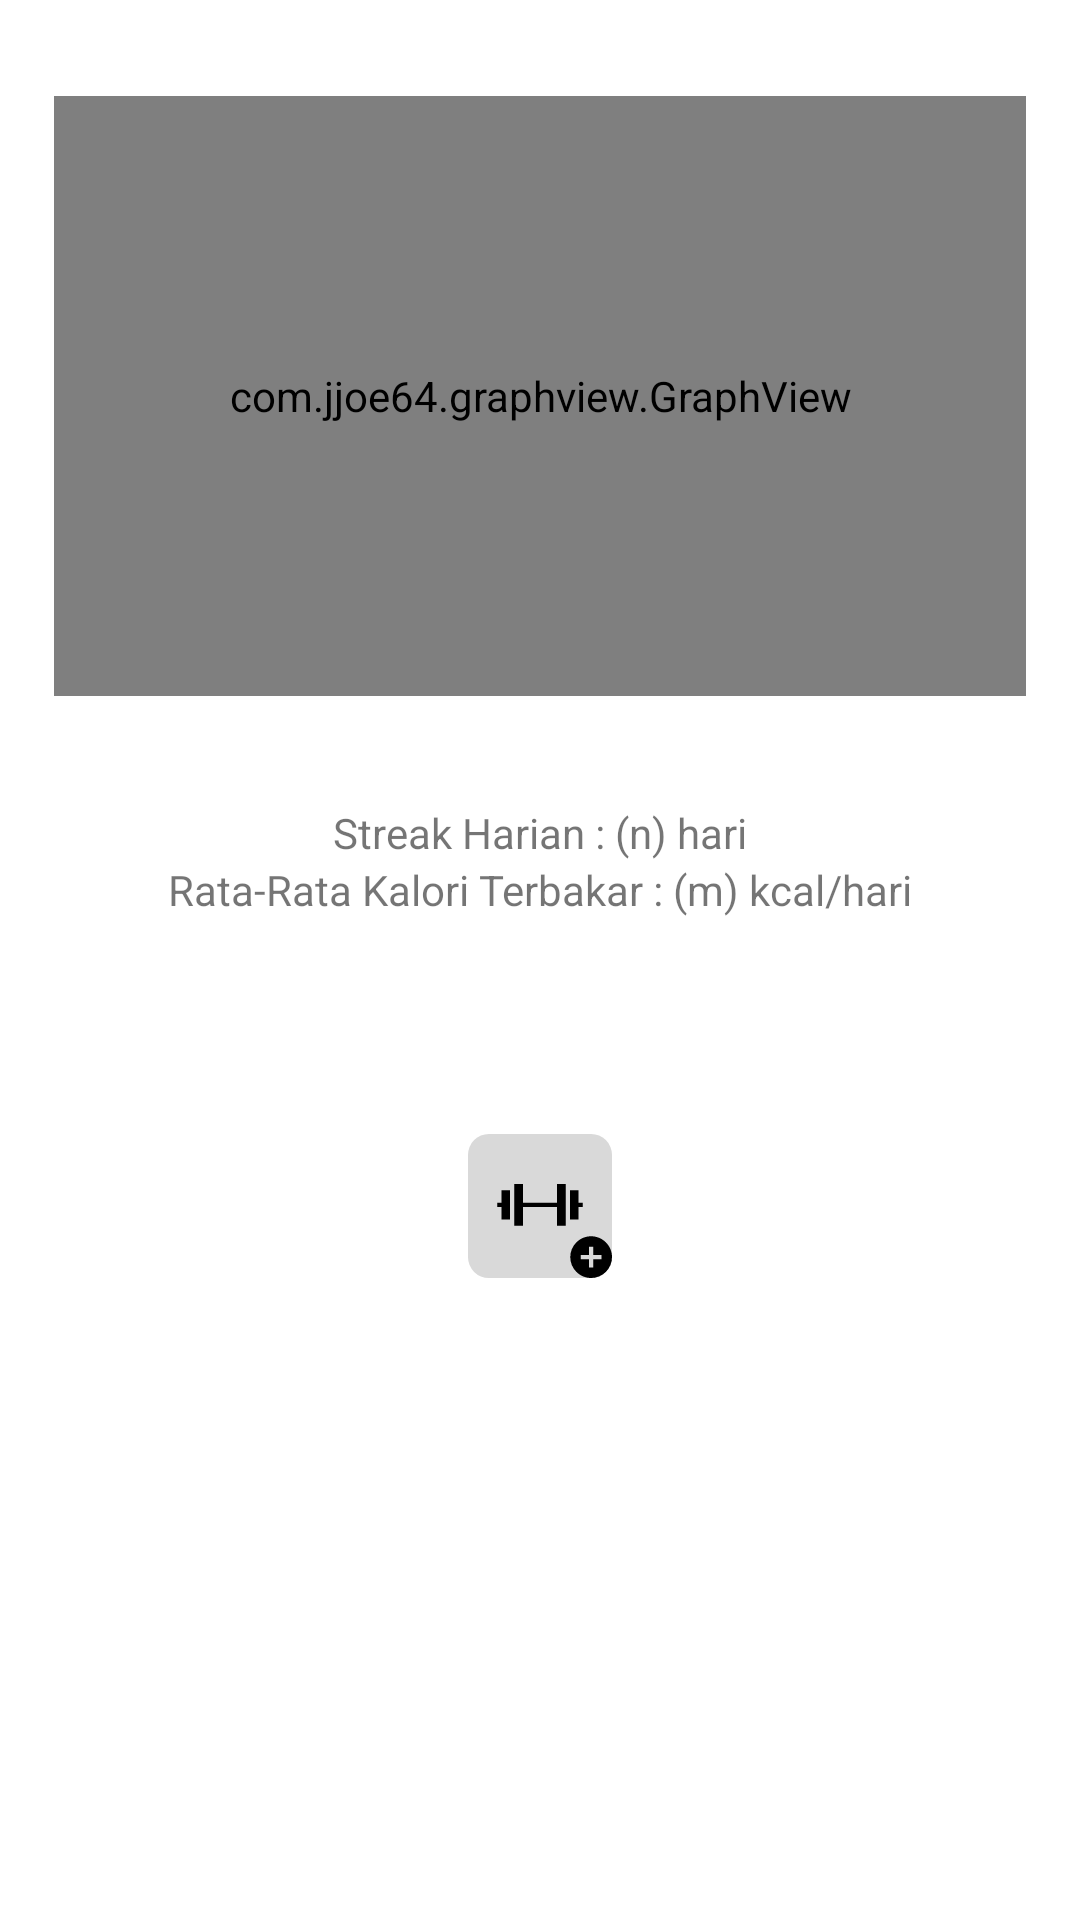

Locate icon controls on the screen. Image size 1080 x 1920, boxes as (x1, y1, x2, y2).
add olahraga: (468, 1134, 612, 1278)
